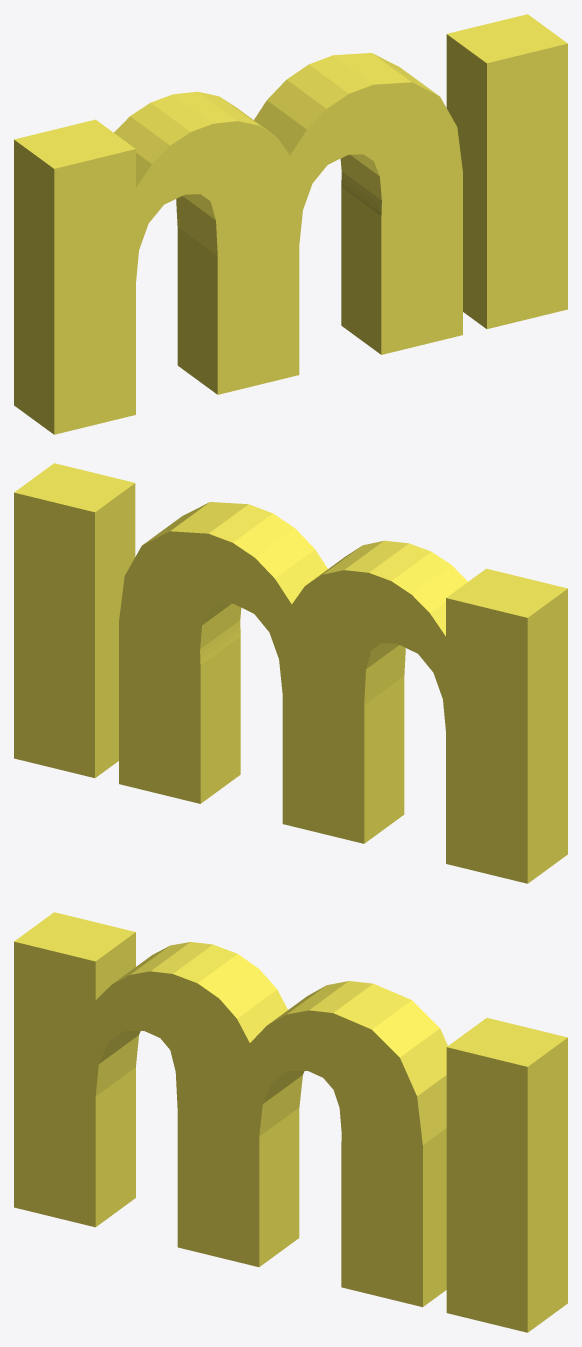
Rendered from suku_kecil_mi.glb.
The picture shows the model from 3 angles, top to bottom: view 1: azimuth 30°, elevation 25°; view 2: azimuth 150°, elevation 25°; view 3: azimuth 330°, elevation 25°; orthographic projection.
Visible parts, largest first — view 1: geometry_0; view 2: geometry_0; view 3: geometry_0.
Boxes of the visible parts, bbox=[...] form: geometry_0: bbox=[14, 14, 567, 434]; geometry_0: bbox=[14, 463, 567, 883]; geometry_0: bbox=[14, 912, 567, 1332].
Bounding box in the file's own units: 11.06 × 5.6 × 1.5.
